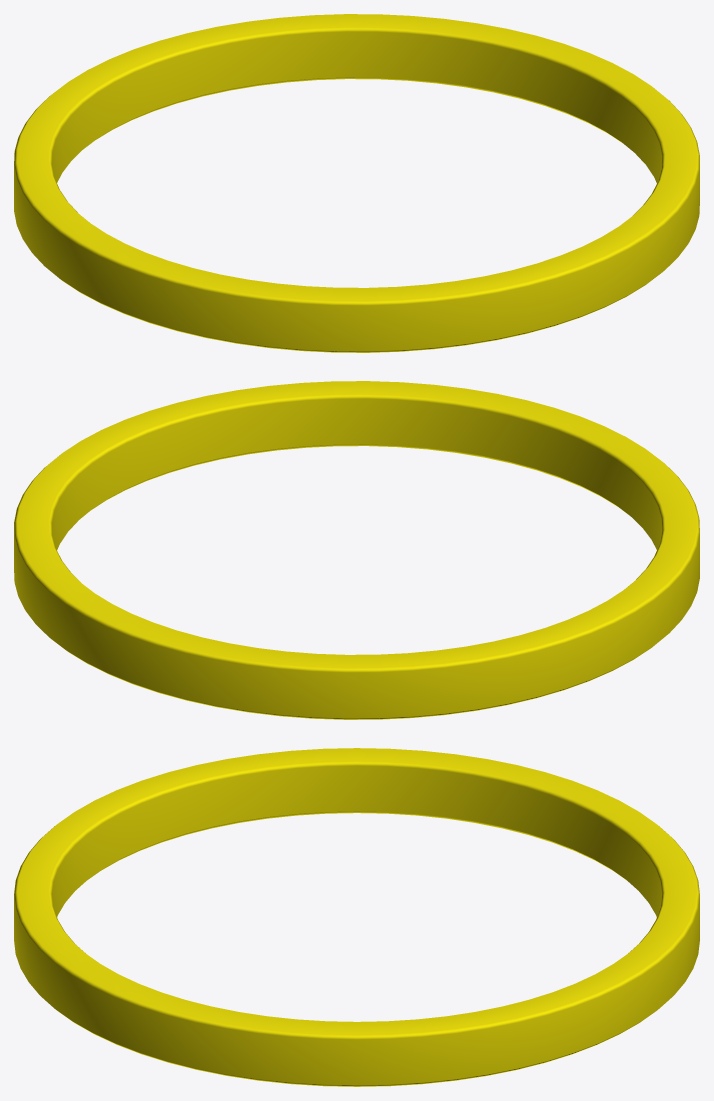
3 renders of one model, top to bottom at view 1: azimuth 30°, elevation 25°; view 2: azimuth 150°, elevation 25°; view 3: azimuth 270°, elevation 25°, orthographic.
Visible parts, largest first — view 1: seal_body; view 2: seal_body; view 3: seal_body.
Part boxes in pixels (x1,y1,x2,y2): seal_body: (14,14,699,352); seal_body: (14,381,699,719); seal_body: (14,748,699,1086).
Bounding box in the file's own units: 0.1143 × 0.00952 × 0.1143.
